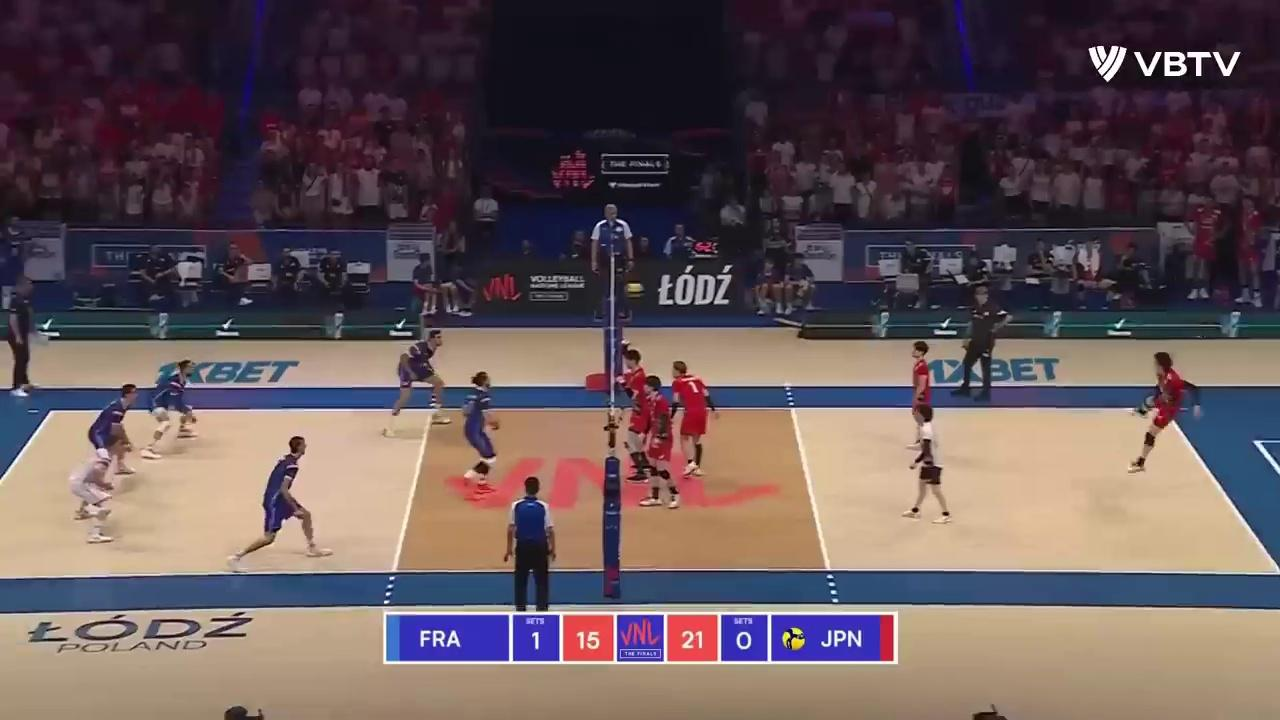ball: (626, 282, 645, 299)
